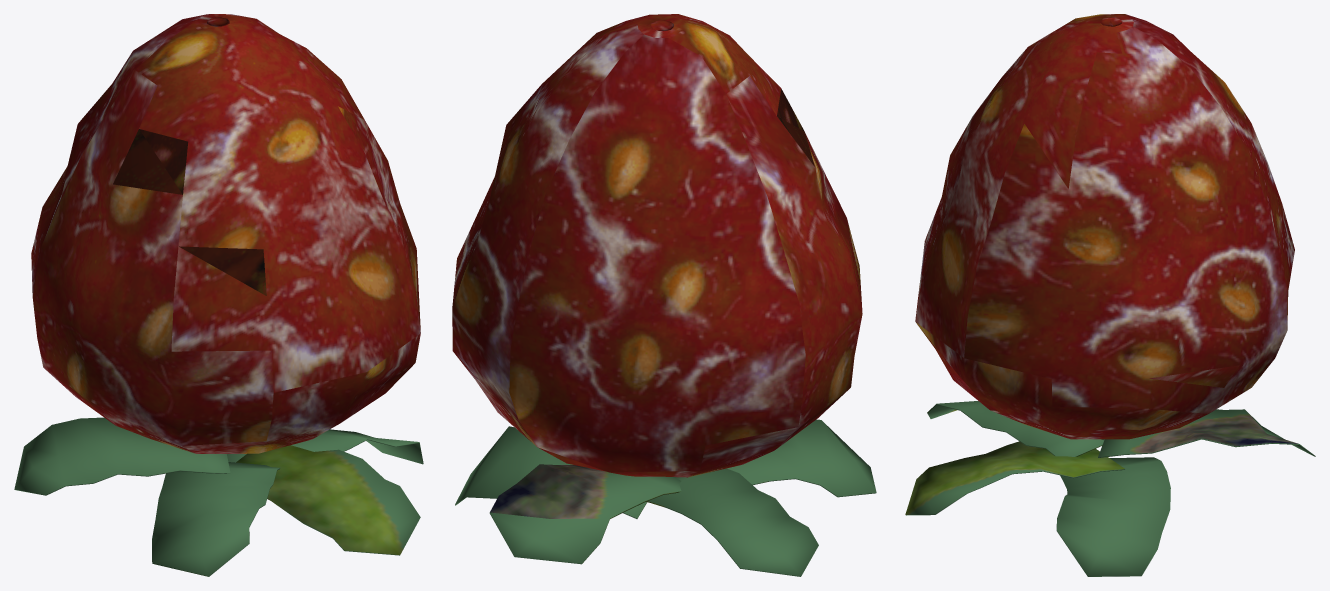
3 renders of one model, left to right at view 1: azimuth 30°, elevation 25°; view 2: azimuth 150°, elevation 25°; view 3: azimuth 270°, elevation 25°, orthographic. The views are drawn at different scales.
Parts seen in each view (by area): view 1: leaf3; view 2: leaf3; view 3: leaf3.
Part boxes in pixels (box(x1,y1,x2,y2)): leaf3: box(14, 14, 423, 576); leaf3: box(452, 14, 876, 576); leaf3: box(905, 14, 1315, 576).
Size of the model in its own units: 0.04 by 0.0407 by 0.0516.
